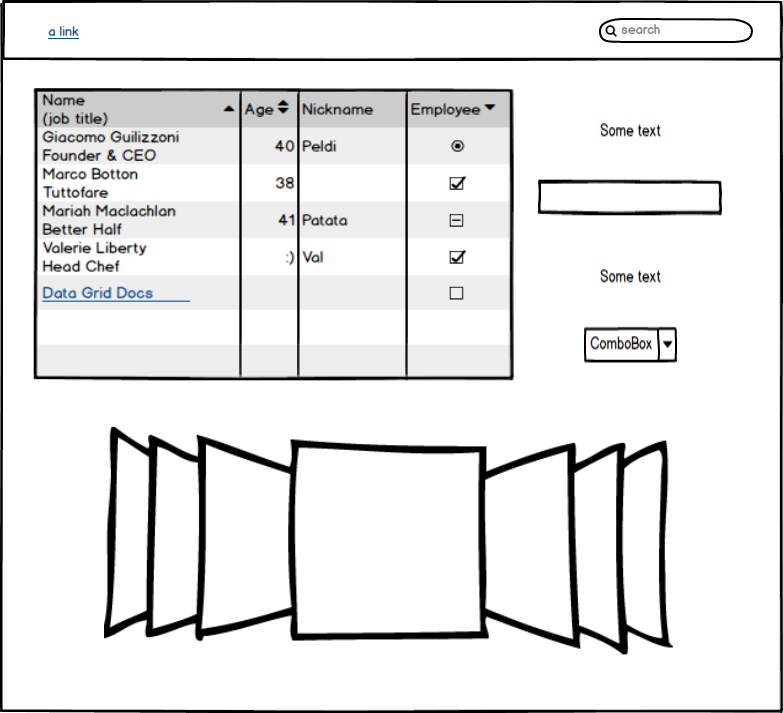input: (531, 174, 729, 220)
label: (593, 113, 666, 143), (594, 259, 667, 288)
navlink: (41, 20, 87, 41)
search: (593, 12, 755, 46)
select_box: (577, 320, 682, 369)
slideshow: (101, 422, 679, 661)
table: (30, 81, 520, 389)
